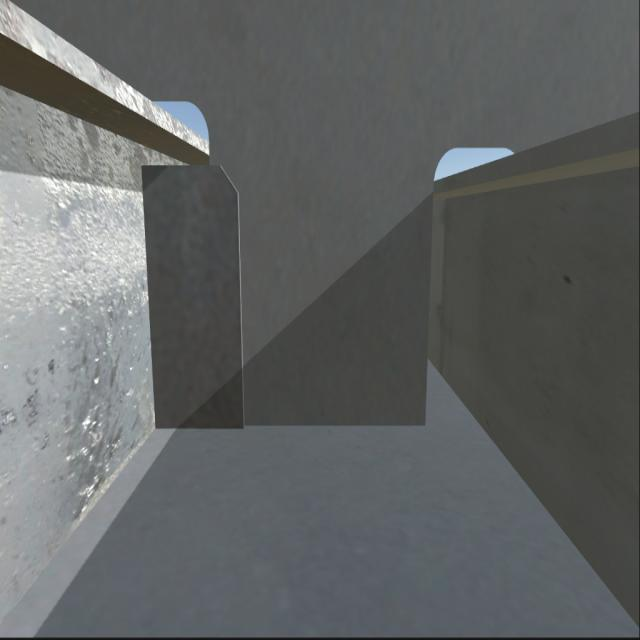fillet_yong_jeop_jang: (150, 423, 425, 435)
longi_yong_jeop_jang: (143, 144, 166, 426)
plate_CP03: (142, 159, 242, 423)
